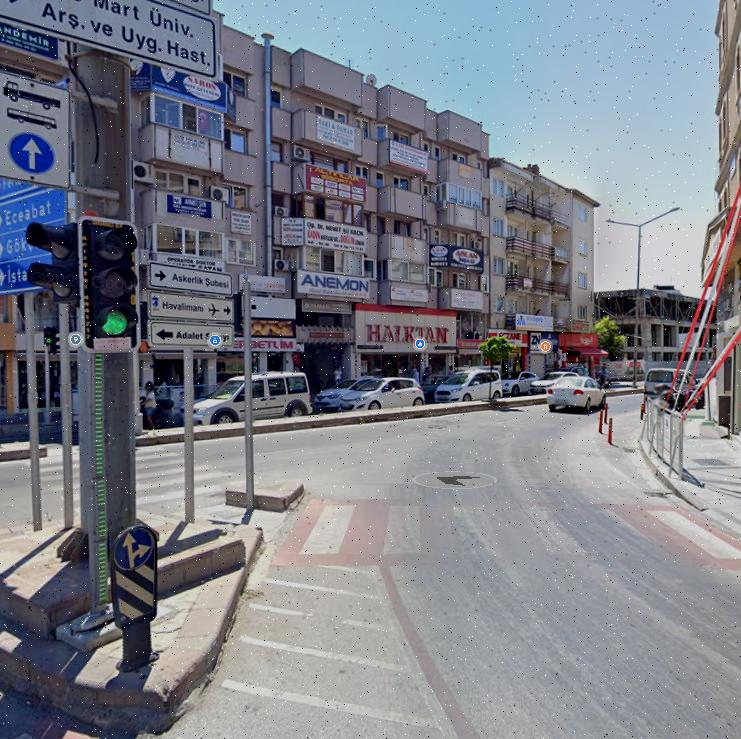greenlight: (85, 215, 140, 348)
